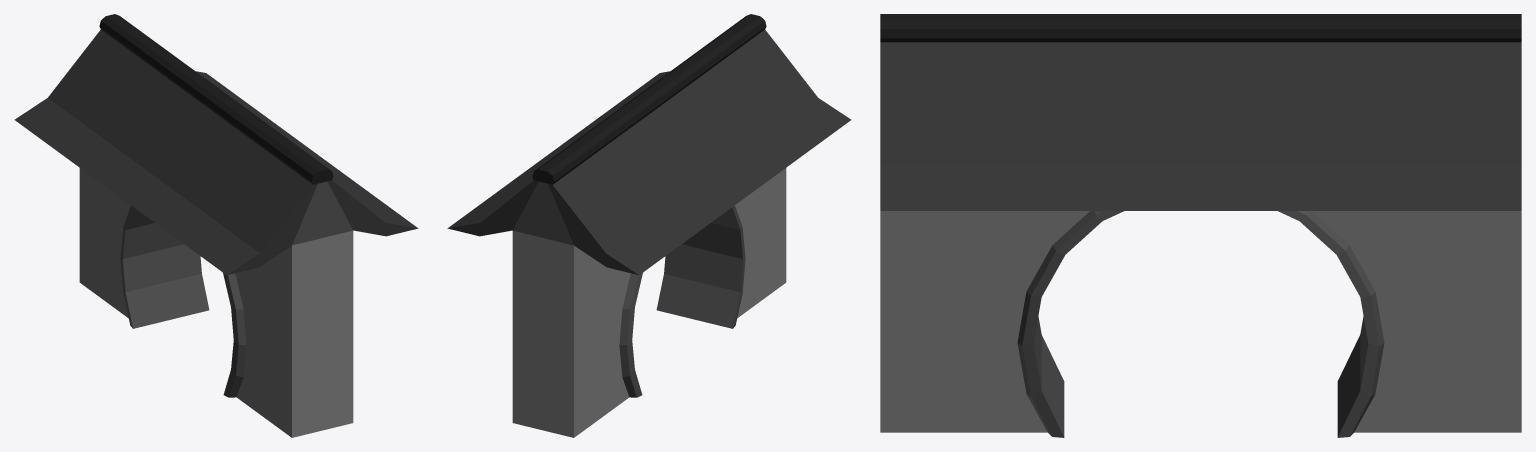
Rendered from TraditionalWallPortal.glb.
3 views of the same model, side by side, from view 1: azimuth 30°, elevation 25°; view 2: azimuth 150°, elevation 25°; view 3: azimuth 270°, elevation 25° (orthographic). The views are drawn at different scales.
Parts seen in each view (by area): view 1: BuildingA_GateA; view 2: BuildingA_GateA; view 3: BuildingA_GateA.
Boxes of the visible parts, left/top/right/bottom form: BuildingA_GateA: left=14, top=14, right=418, bottom=437; BuildingA_GateA: left=447, top=14, right=851, bottom=437; BuildingA_GateA: left=880, top=14, right=1521, bottom=437.
Bounding box in the file's own units: 2.5 × 3.24 × 4.8.
1 material, 1 textured.
